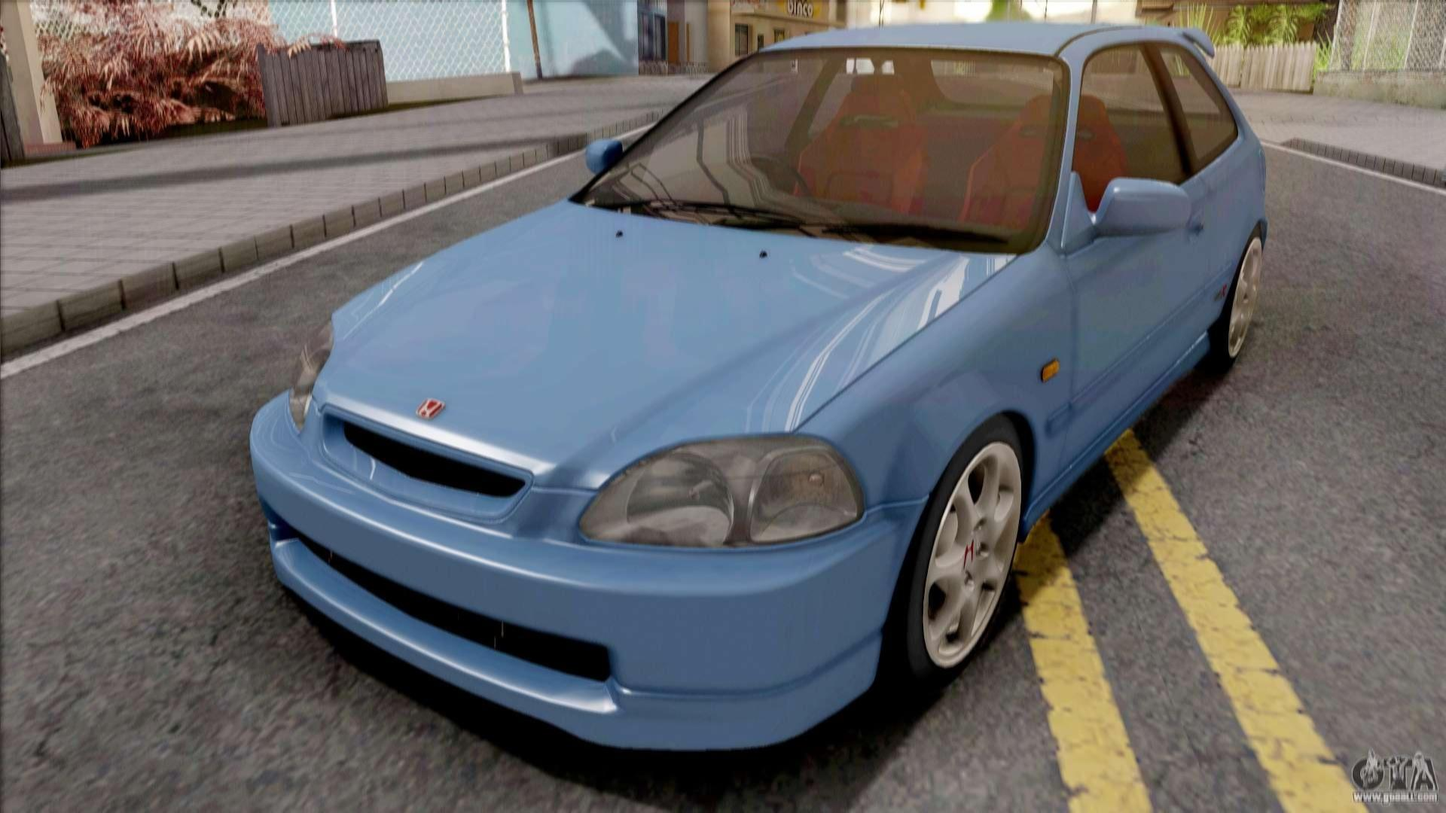Car hood: (310, 191, 1022, 498)
Fender - -F-L-: (809, 231, 1075, 635)
Front bumper: (244, 387, 930, 771)
Headlight - -L-: (564, 423, 871, 551)
Headlight - -R-: (281, 305, 333, 441)
Passenger-s door - -F-L-: (994, 15, 1254, 513)
Side bumper - -L-: (1024, 311, 1234, 553)
Side mirror - -L-: (1055, 162, 1189, 265)
Side mirror - -R-: (573, 134, 628, 176)
